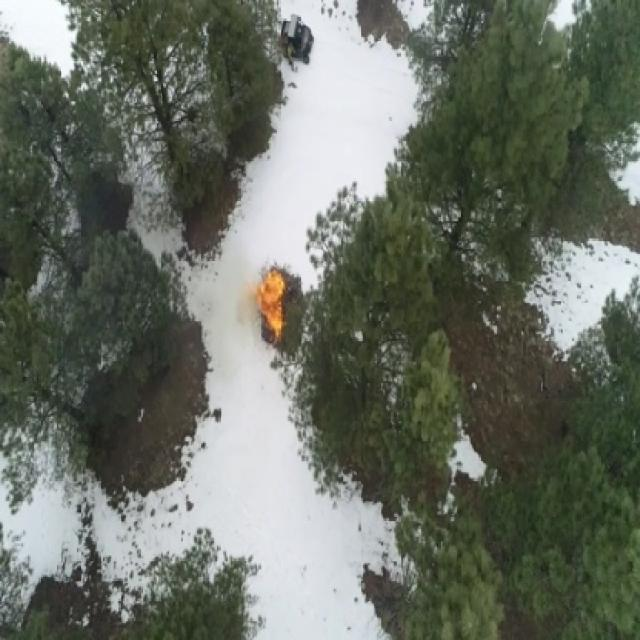Fire: (254, 266, 286, 342)
